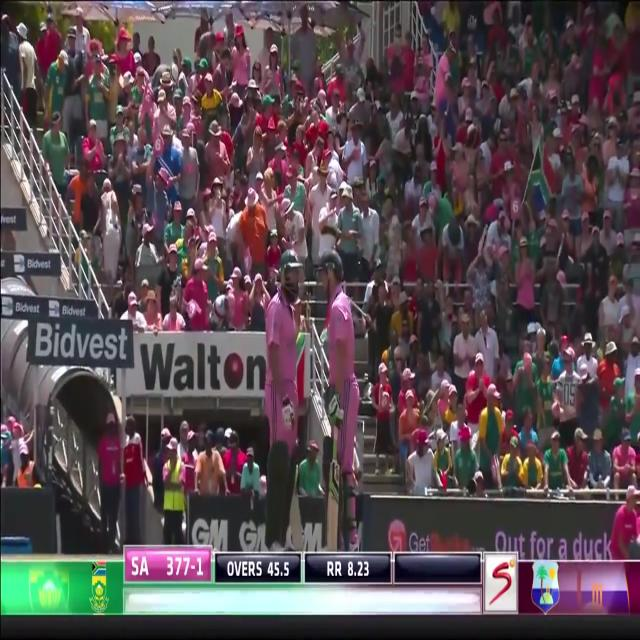Ball: (254, 247, 309, 553), (316, 249, 371, 553)
